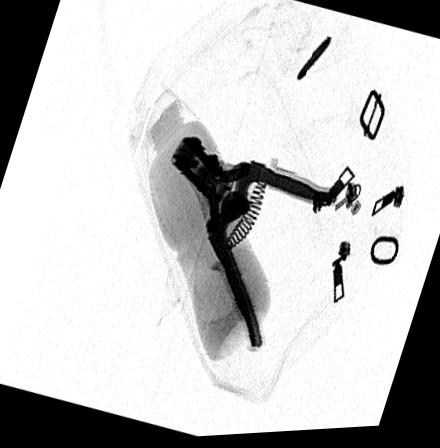Pliers: (171, 134, 340, 358)
